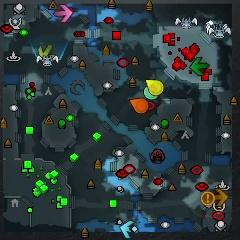Other: (200, 191, 214, 207)
p2: (143, 85, 160, 98)
p4: (145, 79, 164, 95)
p5: (129, 98, 150, 115)
x1: (55, 5, 73, 22)
x2: (37, 44, 56, 58)
x3: (120, 219, 138, 238)
x4: (191, 57, 210, 75)
x5: (212, 188, 228, 205)
